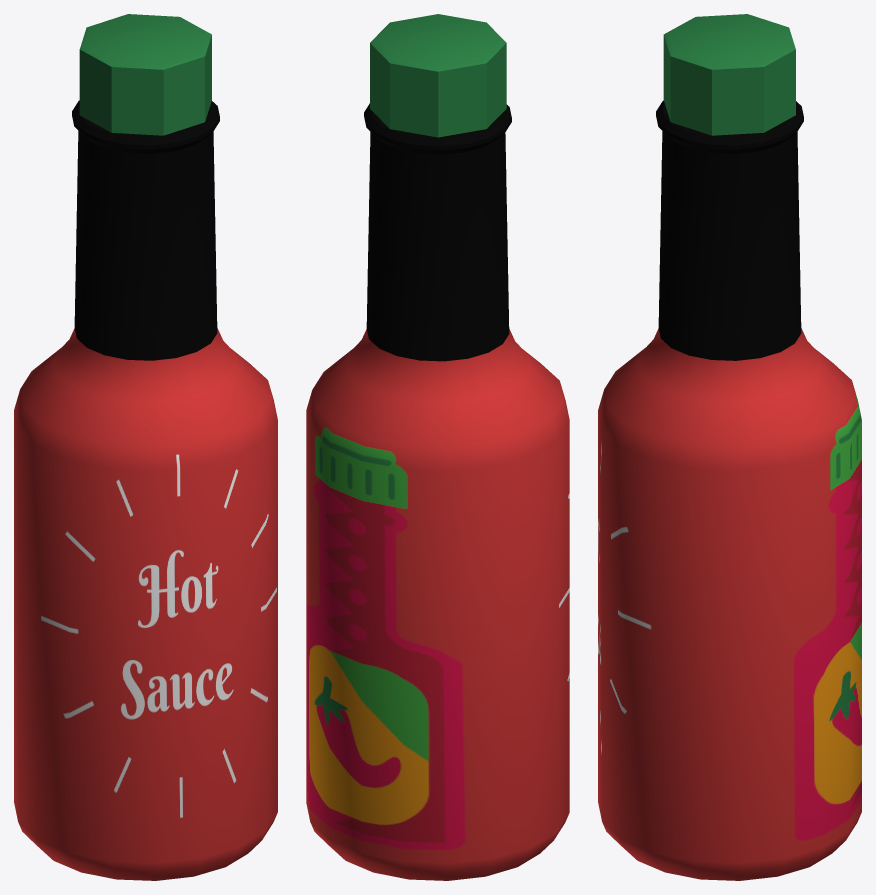
File: Spicy.fbx
3 renders of one model, left to right at view 1: azimuth 30°, elevation 25°; view 2: azimuth 150°, elevation 25°; view 3: azimuth 270°, elevation 25°, orthographic.
Parts seen in each view (by area): view 1: spicy; view 2: spicy; view 3: spicy.
Part boxes in pixels (x1,y1,x2,y2): spicy: [14, 14, 277, 880]; spicy: [306, 14, 569, 880]; spicy: [598, 14, 861, 880].
Bounding box in the file's own units: 4.6 × 15.25 × 4.6.
Materials: 1 (1 with a texture image).
